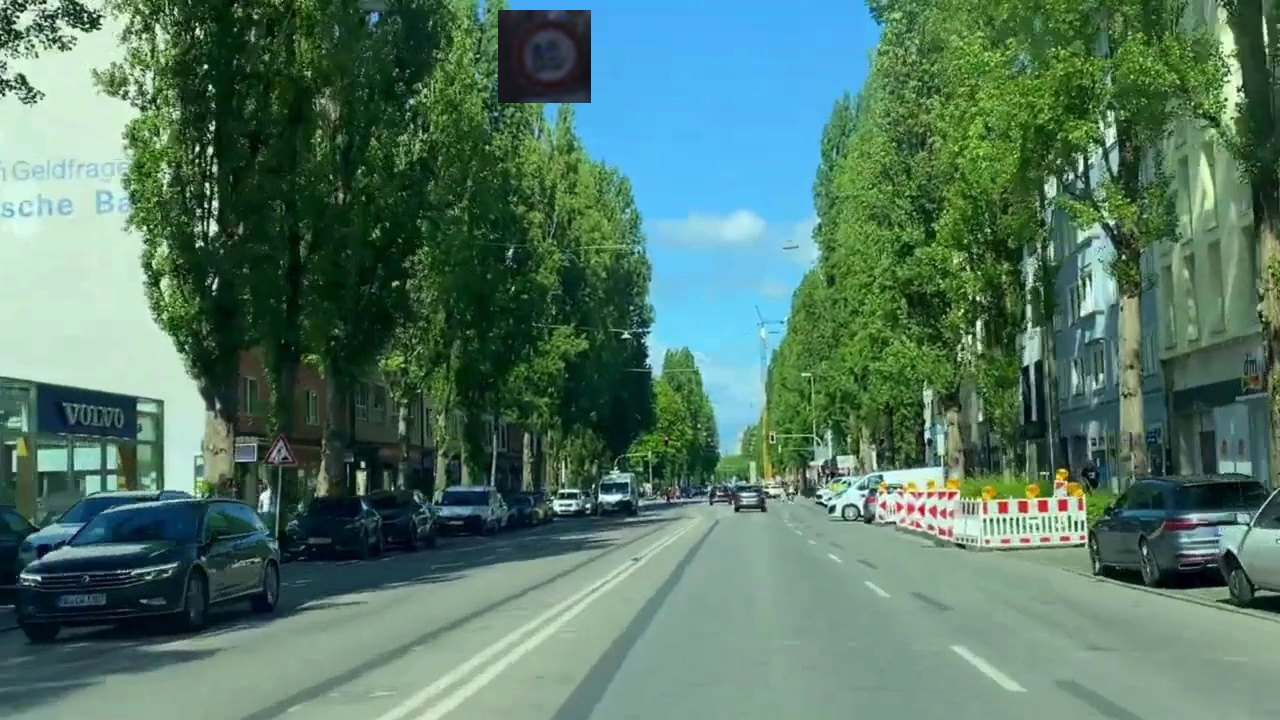Speed 80: (498, 10, 591, 103)
